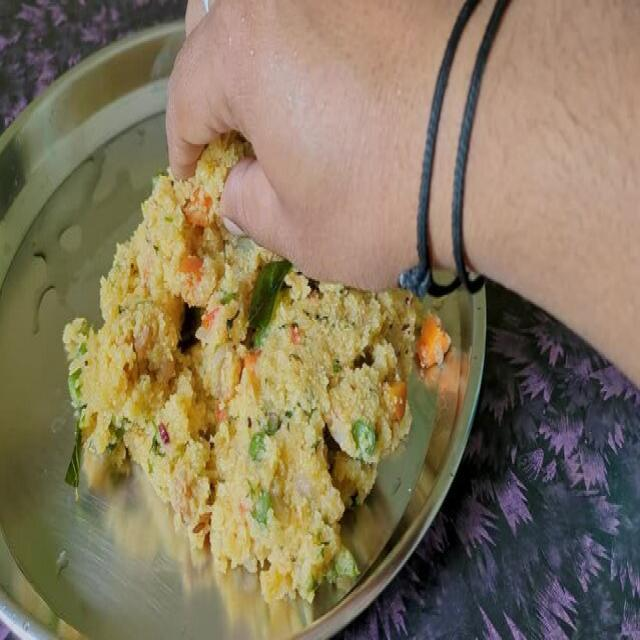UPMA: (60, 180, 422, 601)
